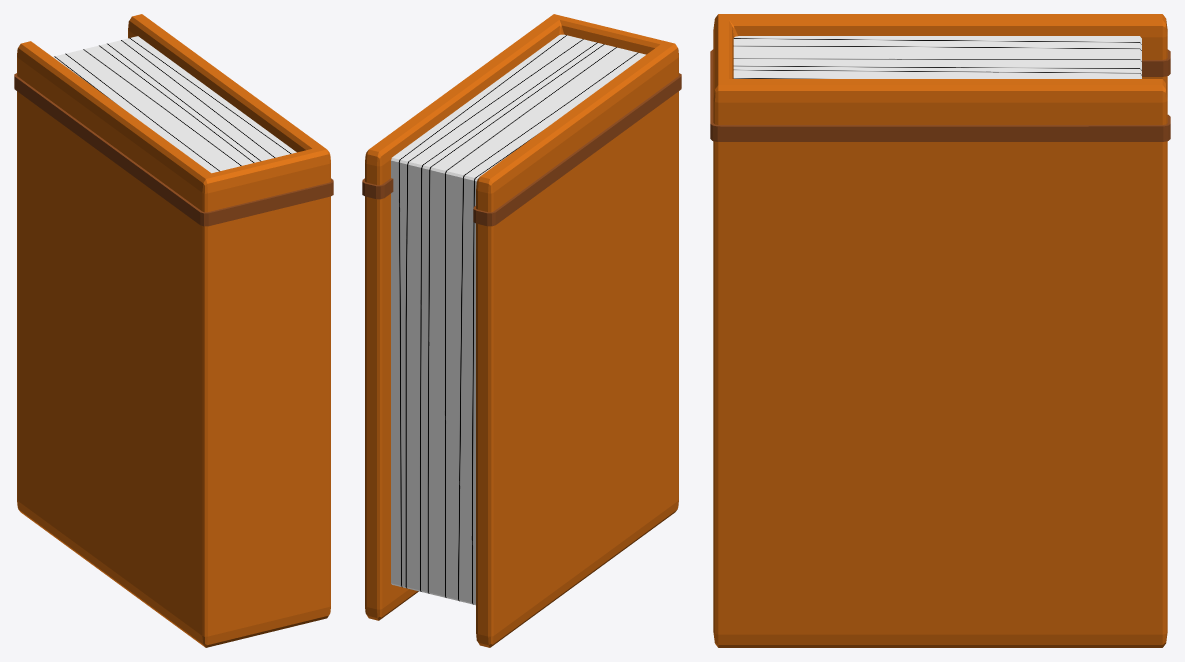
Rendered from Book_2.fbx.
3 renders of one model, left to right at view 1: azimuth 30°, elevation 25°; view 2: azimuth 150°, elevation 25°; view 3: azimuth 270°, elevation 25°, orthographic. The views are drawn at different scales.
Visible parts, largest first — view 1: Cube.004; view 2: Cube.004; view 3: Cube.004.
Boxes of the visible parts, box(x1,y1,x2,y2) form: Cube.004: box(14, 14, 333, 647); Cube.004: box(362, 14, 681, 647); Cube.004: box(710, 14, 1170, 647).
Size of the model in its own units: 193 by 651 by 483.
